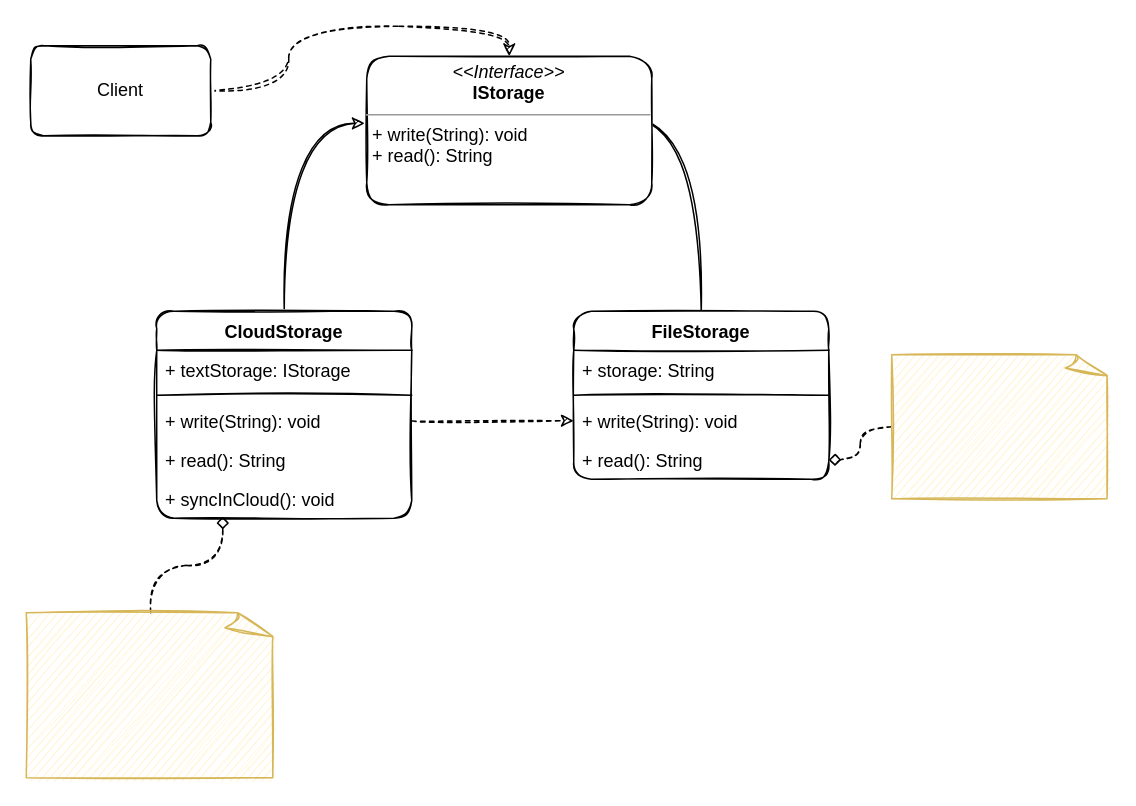
This 1136x806 diagram has some shape labels left out. The shapes that lost their labels are listed below. From the top down, each one's centre as x and y in pixels, then its label:
At point (999, 426): "Sealed module".
At point (150, 694): "Wrap FileStorage to sync data in cloud as well".
